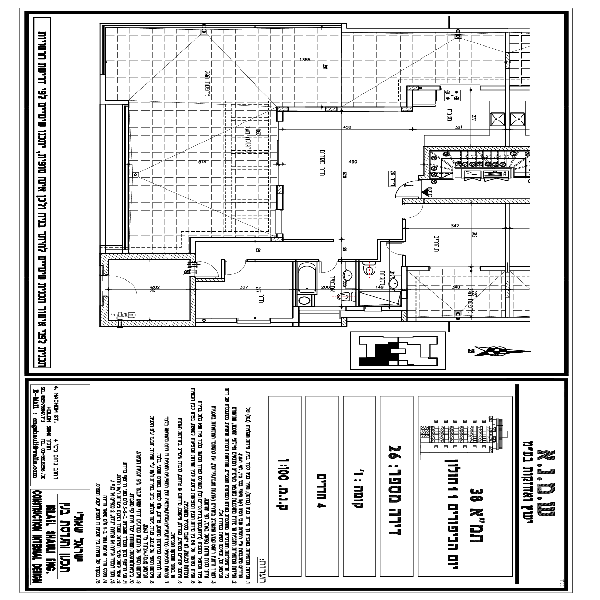room: (278, 102, 409, 244), (190, 253, 303, 326)
